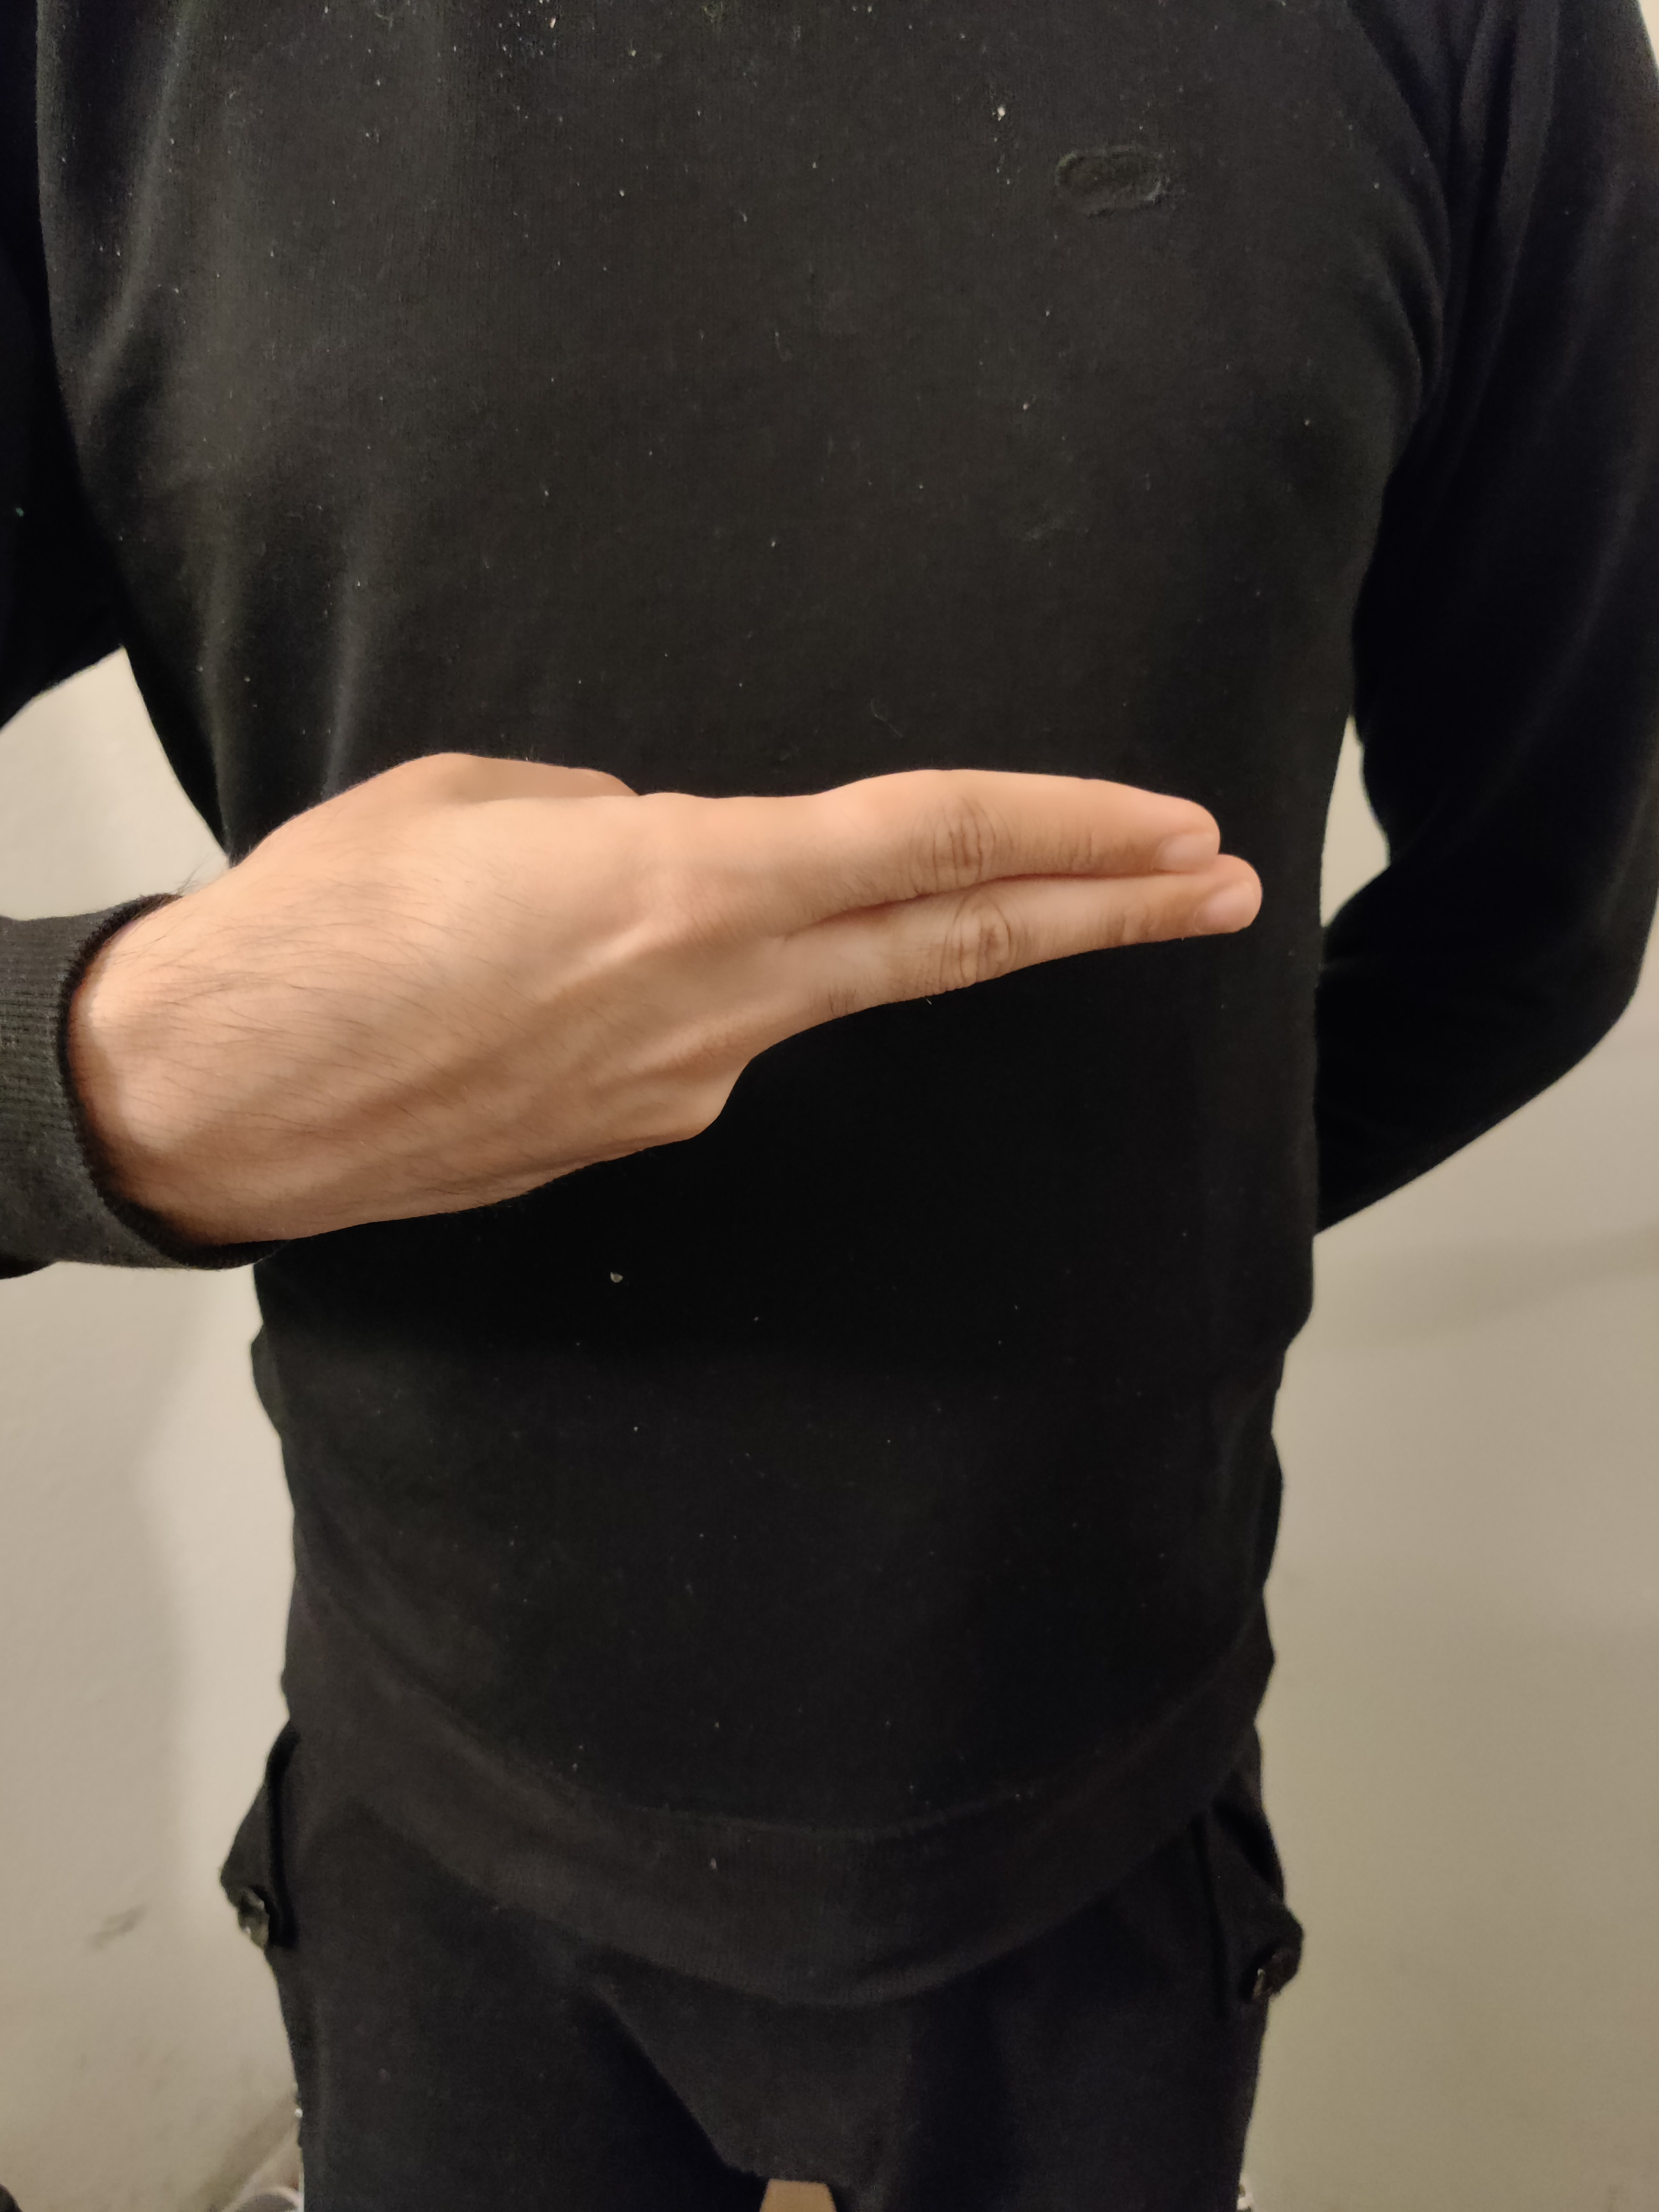left: (16, 441, 1523, 1390)
